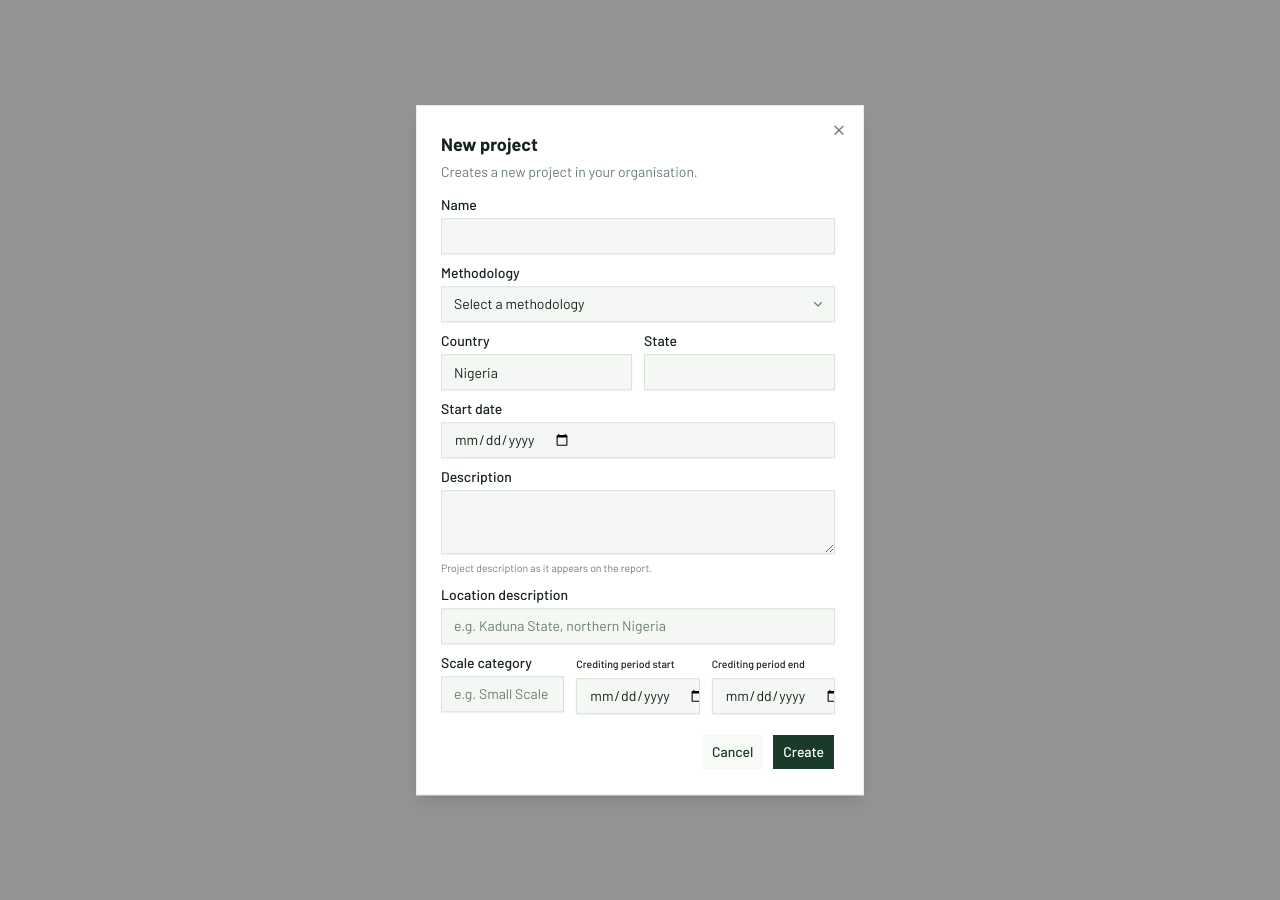
Scenario: CreateProjectDialog › submits the form with the selected methodology code
This screenshot has width=1280, height=900.
Type "New Project" into the field labelled "Name" at (638, 236), box [441,218,835,254]
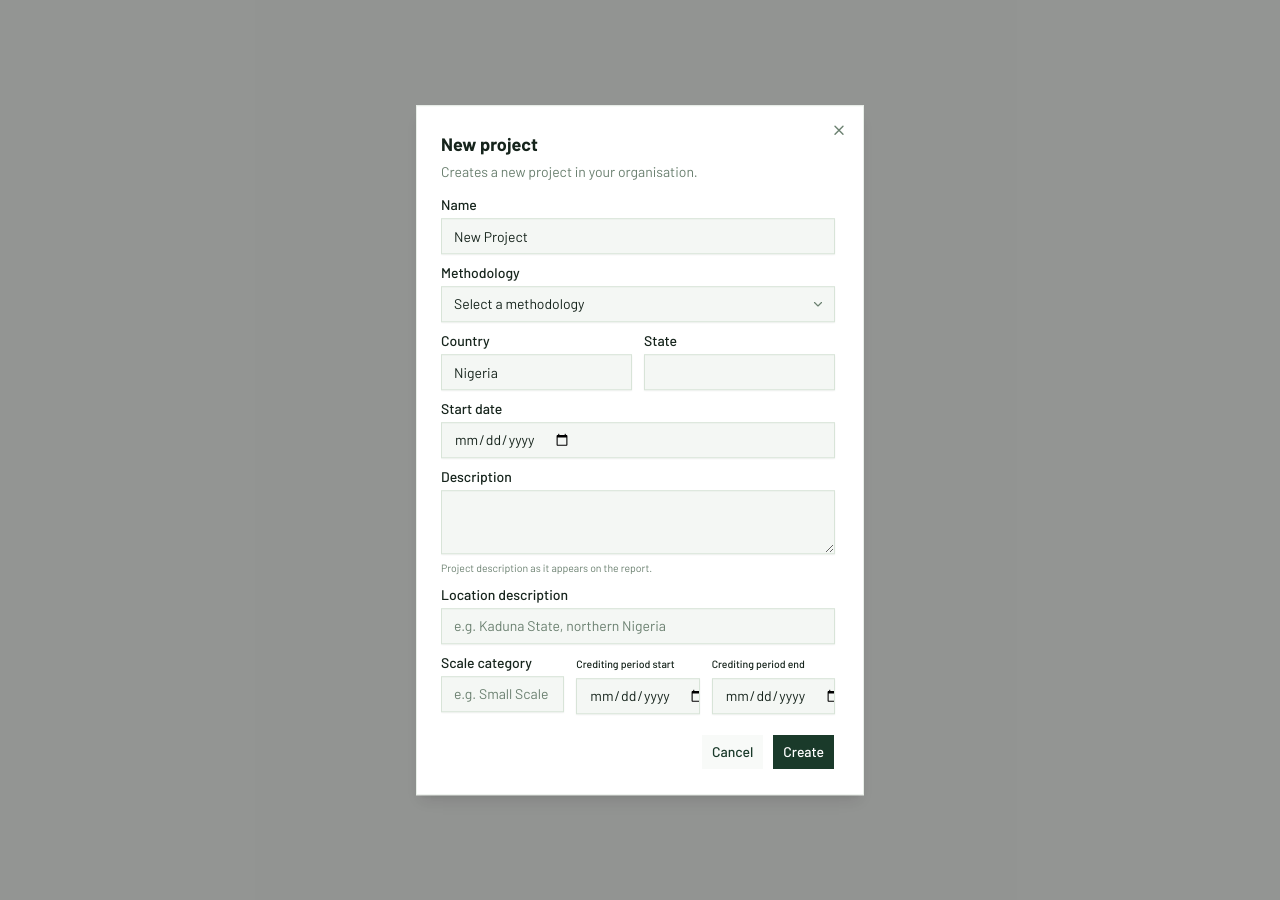
Select "Improved Cookstoves (VM0050)" in the dropdown labelled "Methodology" at (638, 304), box [441,286,835,322]
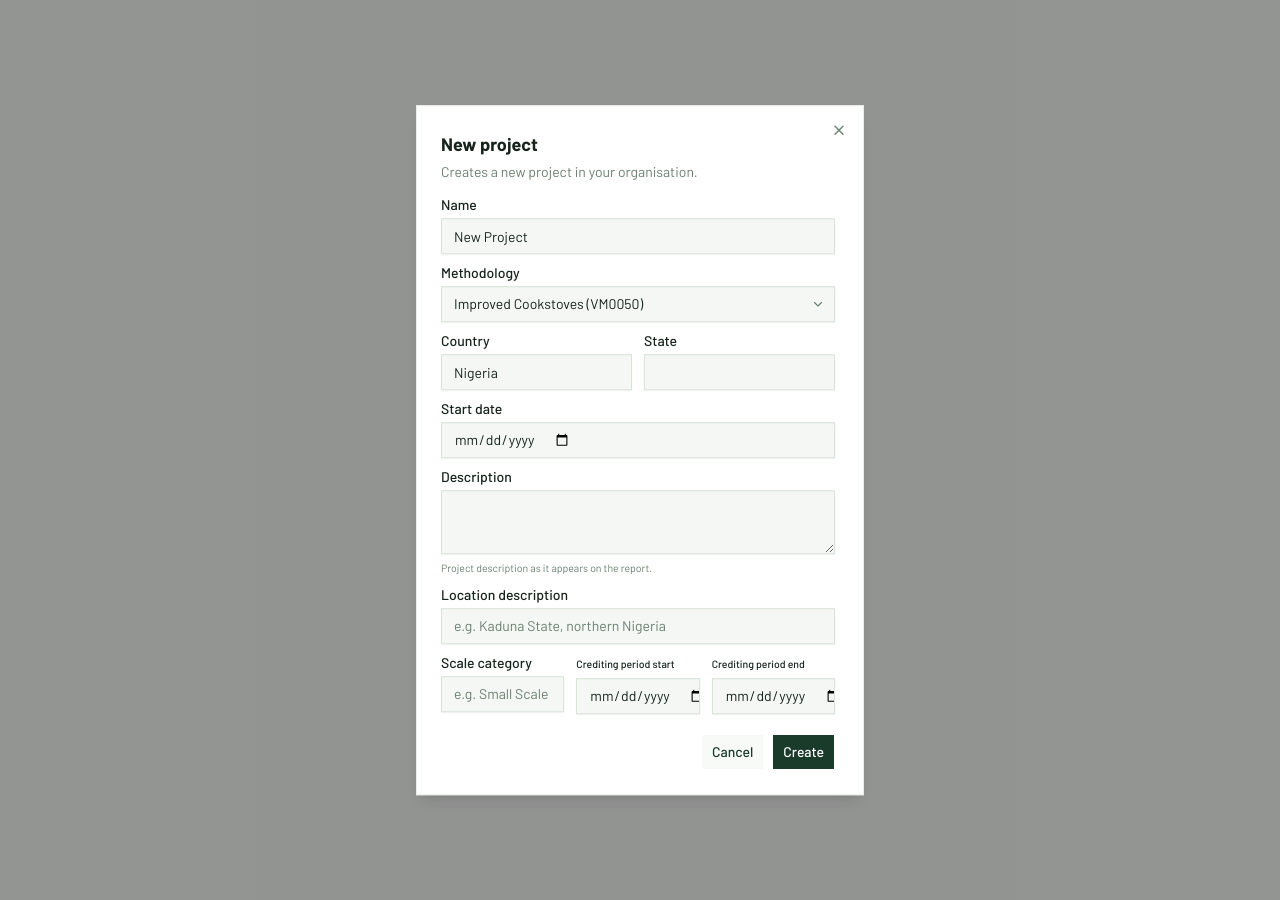
Type "2026-01-15" into the date field labelled "Start date" at (638, 440), box [441,422,835,458]
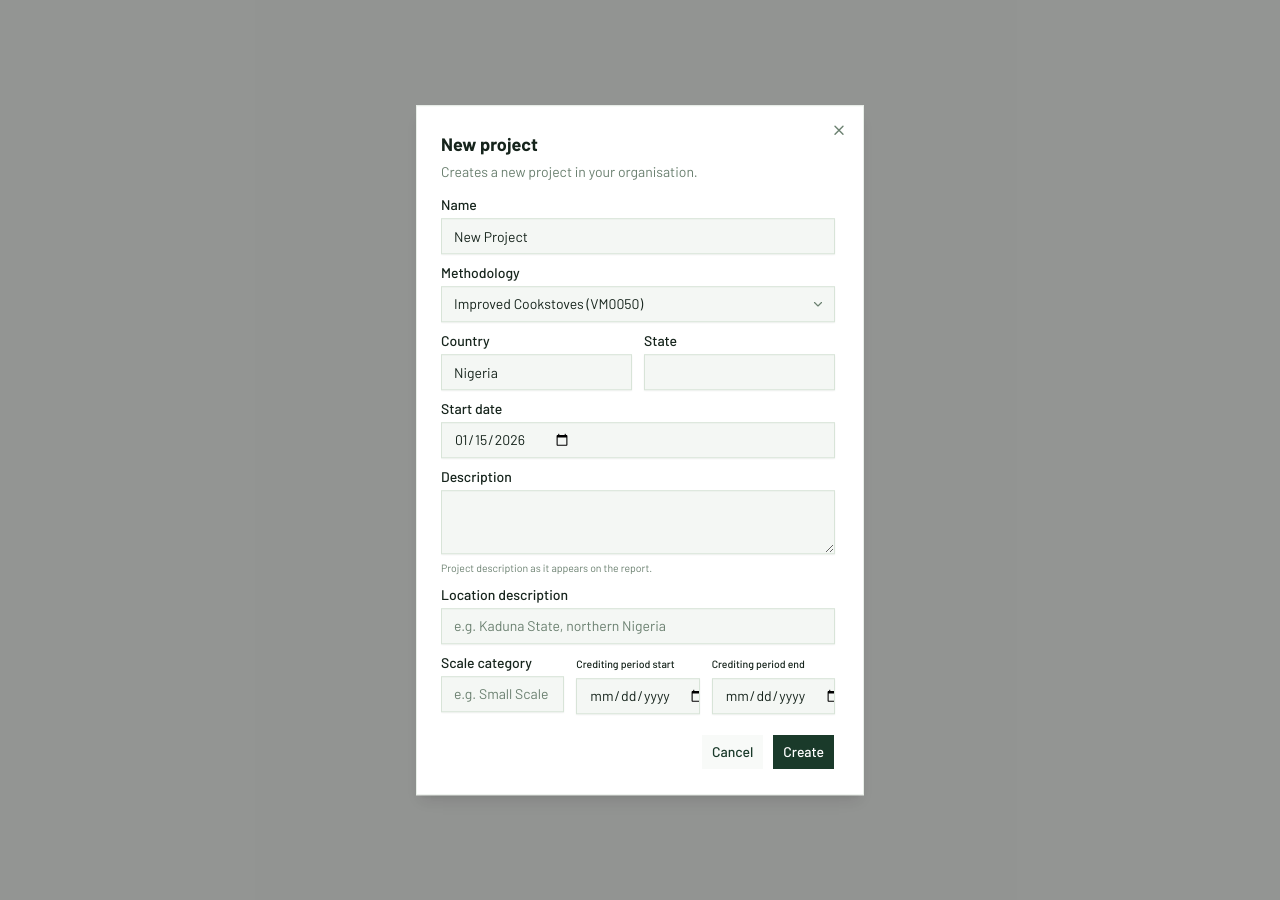
Click the button "Create" at (804, 752), box [772,734,835,770]
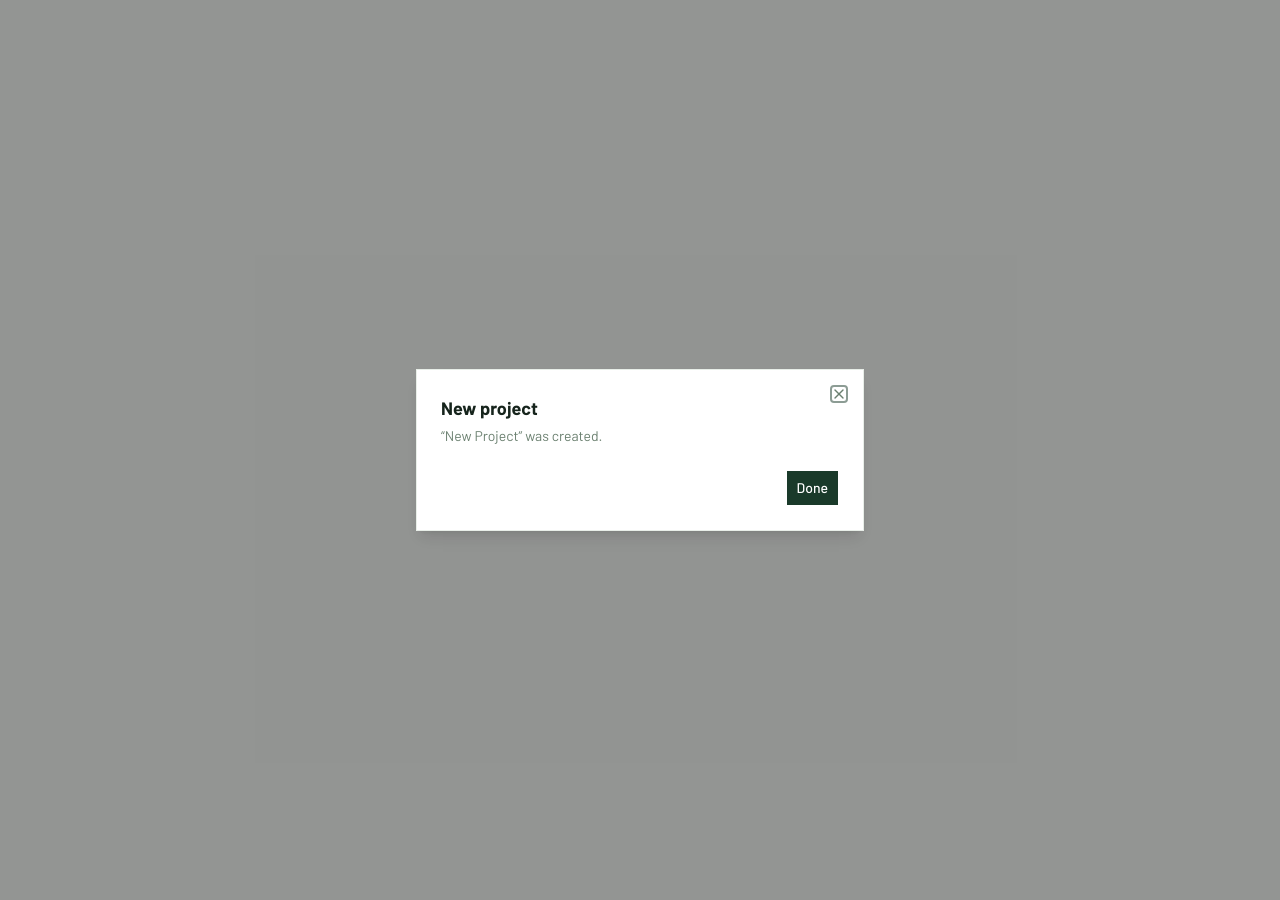
Expected: the text "“New Project” was created." is shown, [441,427,602,444]
